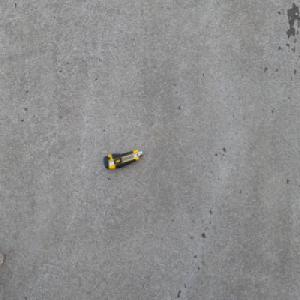Cutter: (103, 149, 143, 169)
